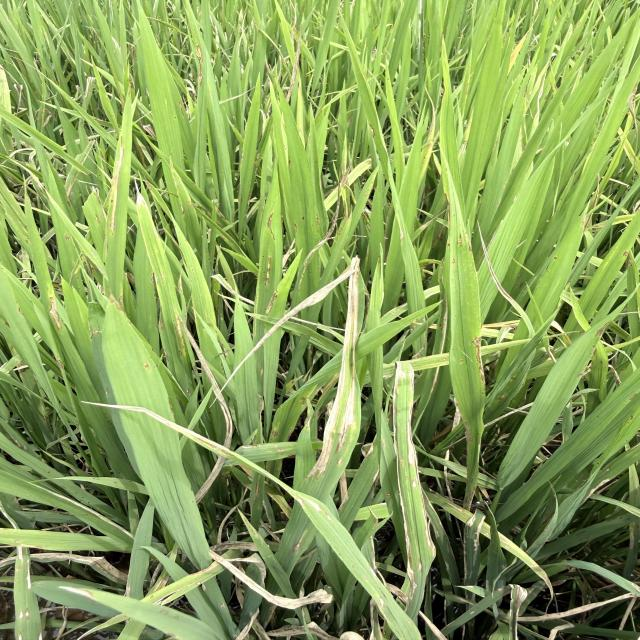Chay bia la: (213, 266, 354, 395), (305, 256, 360, 480), (78, 401, 232, 460)
